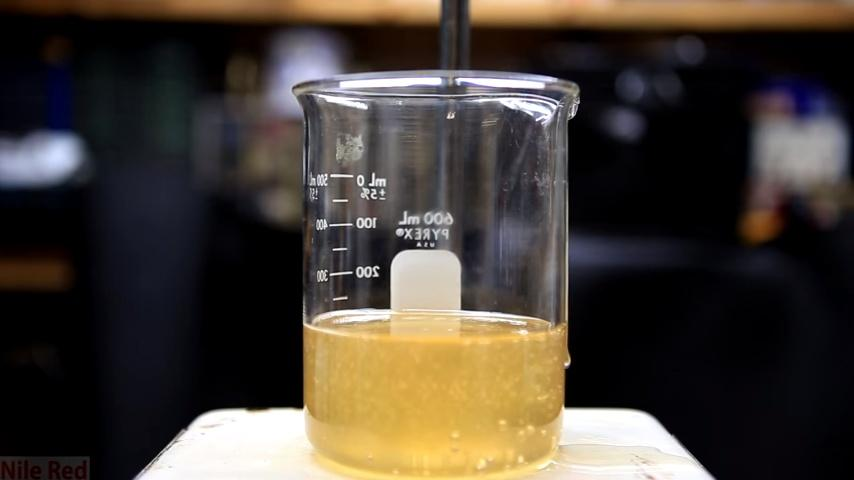Beaker: (279, 65, 591, 473)
